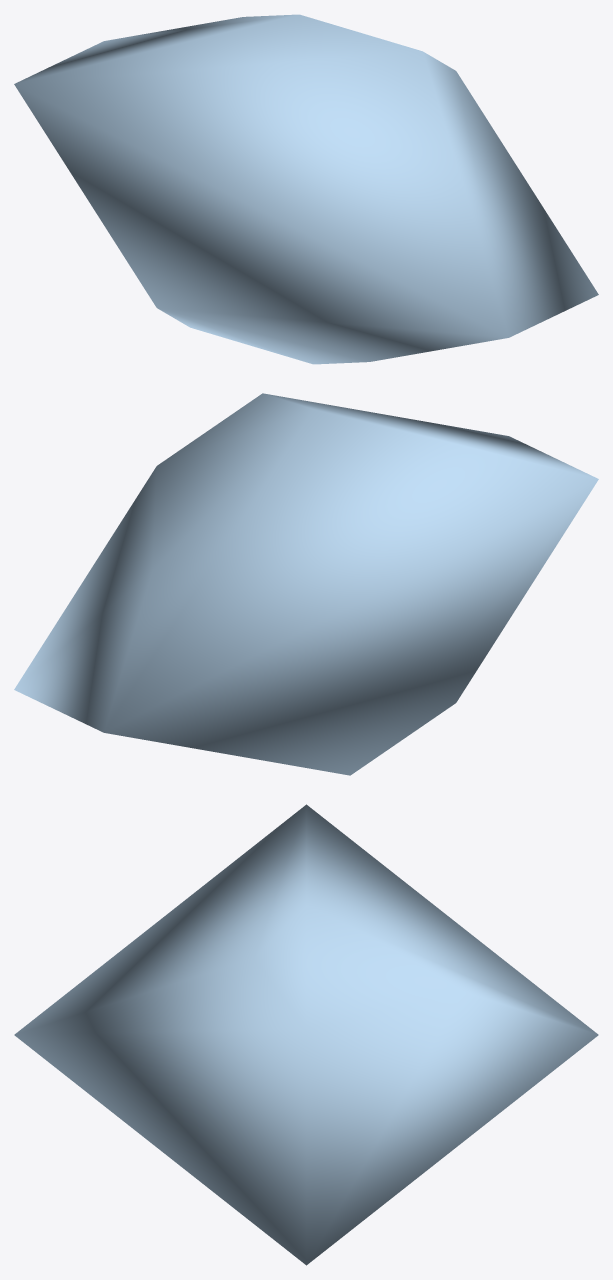
File: sapphire.glb
The picture shows the model from 3 angles, top to bottom: view 1: azimuth 30°, elevation 25°; view 2: azimuth 150°, elevation 25°; view 3: azimuth 270°, elevation 25°; orthographic projection. The views are drawn at different scales.
Parts seen in each view (by area): view 1: sapphire; view 2: sapphire; view 3: sapphire.
Boxes of the visible parts, bbox=[...] form: sapphire: bbox=[14, 14, 598, 364]; sapphire: bbox=[14, 393, 598, 775]; sapphire: bbox=[14, 804, 598, 1265].
Bounding box in the file's own units: 3.21 × 1.85 × 3.85.
